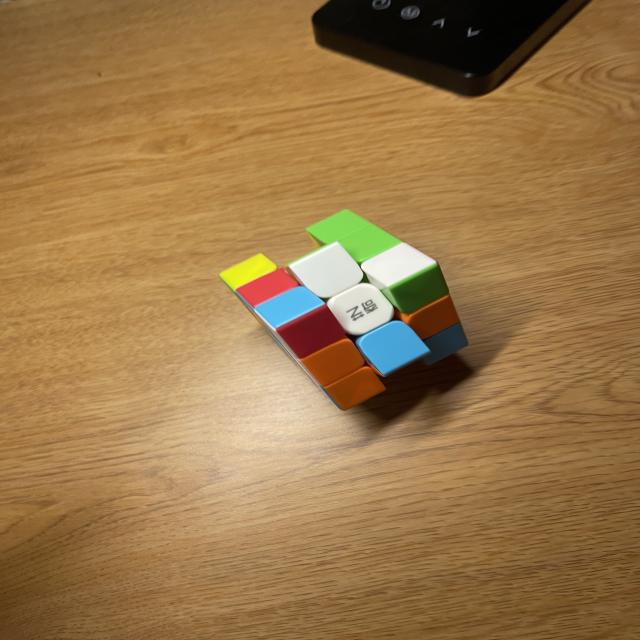Rubiks Cube: (218, 209, 468, 411)
